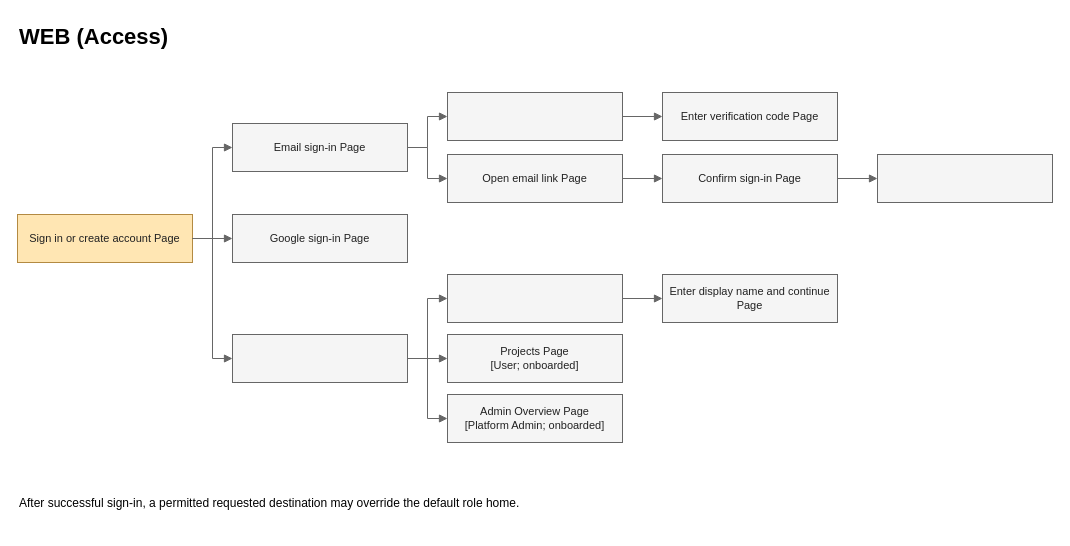
This 1070x546 diagram has some shape labels left out. Here are the shapes that lost their labels. From the top down, the centre of each, then its label:
point (534, 116): Enter email Page
point (964, 178): Retry / use different email Page
point (534, 298): Onboarding Page [not onboarded]
point (320, 358): Successful sign-in Page
